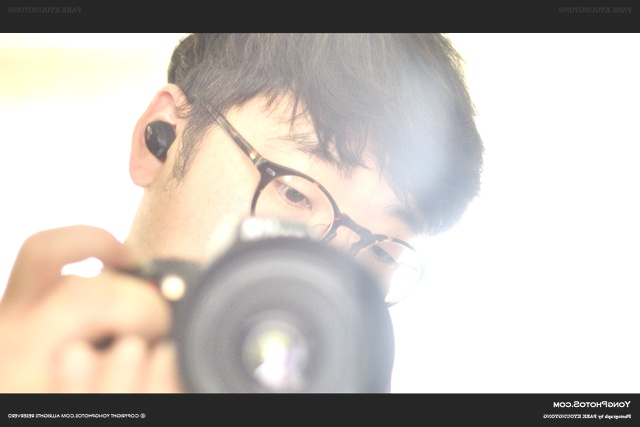earphone: (128, 83, 194, 188)
